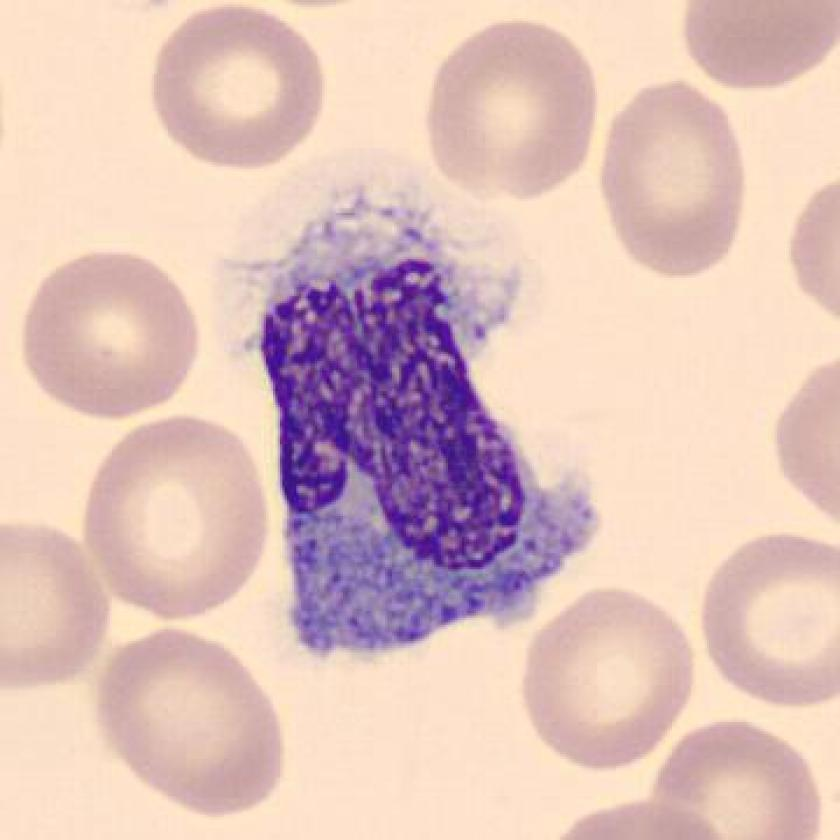monocyte: (216, 159, 615, 705)
